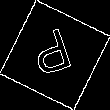P_S: (29, 26, 81, 84)
